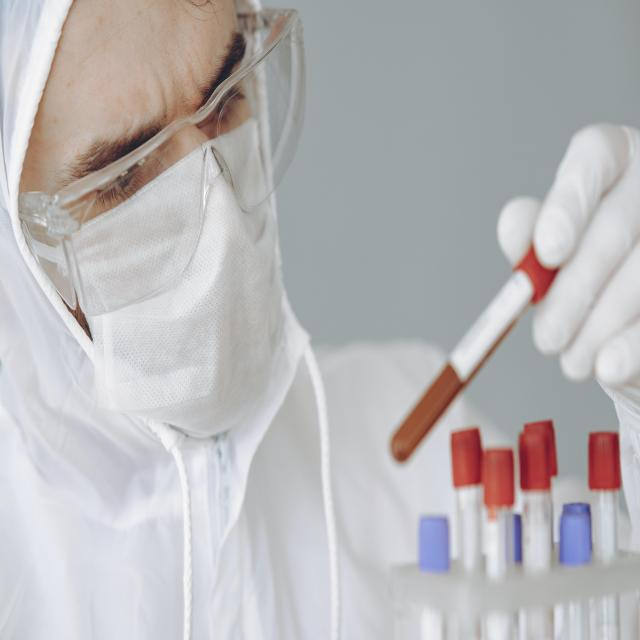Mask: (77, 122, 285, 442)
